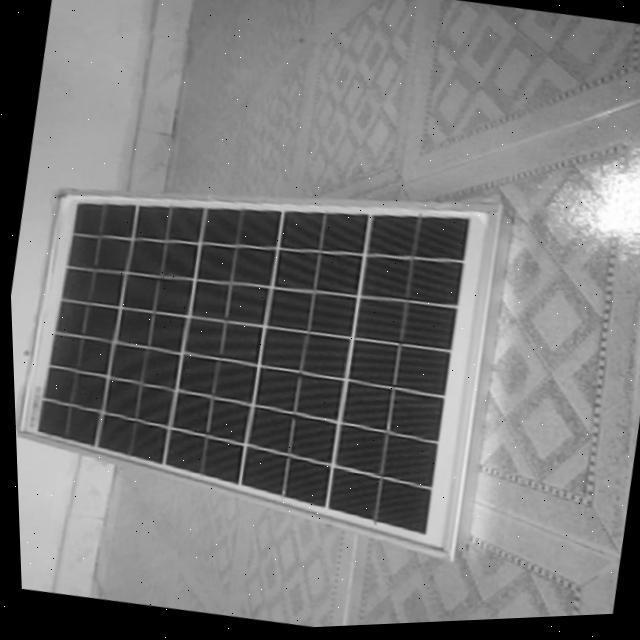Normal Solar Panel: (4, 130, 520, 581)
